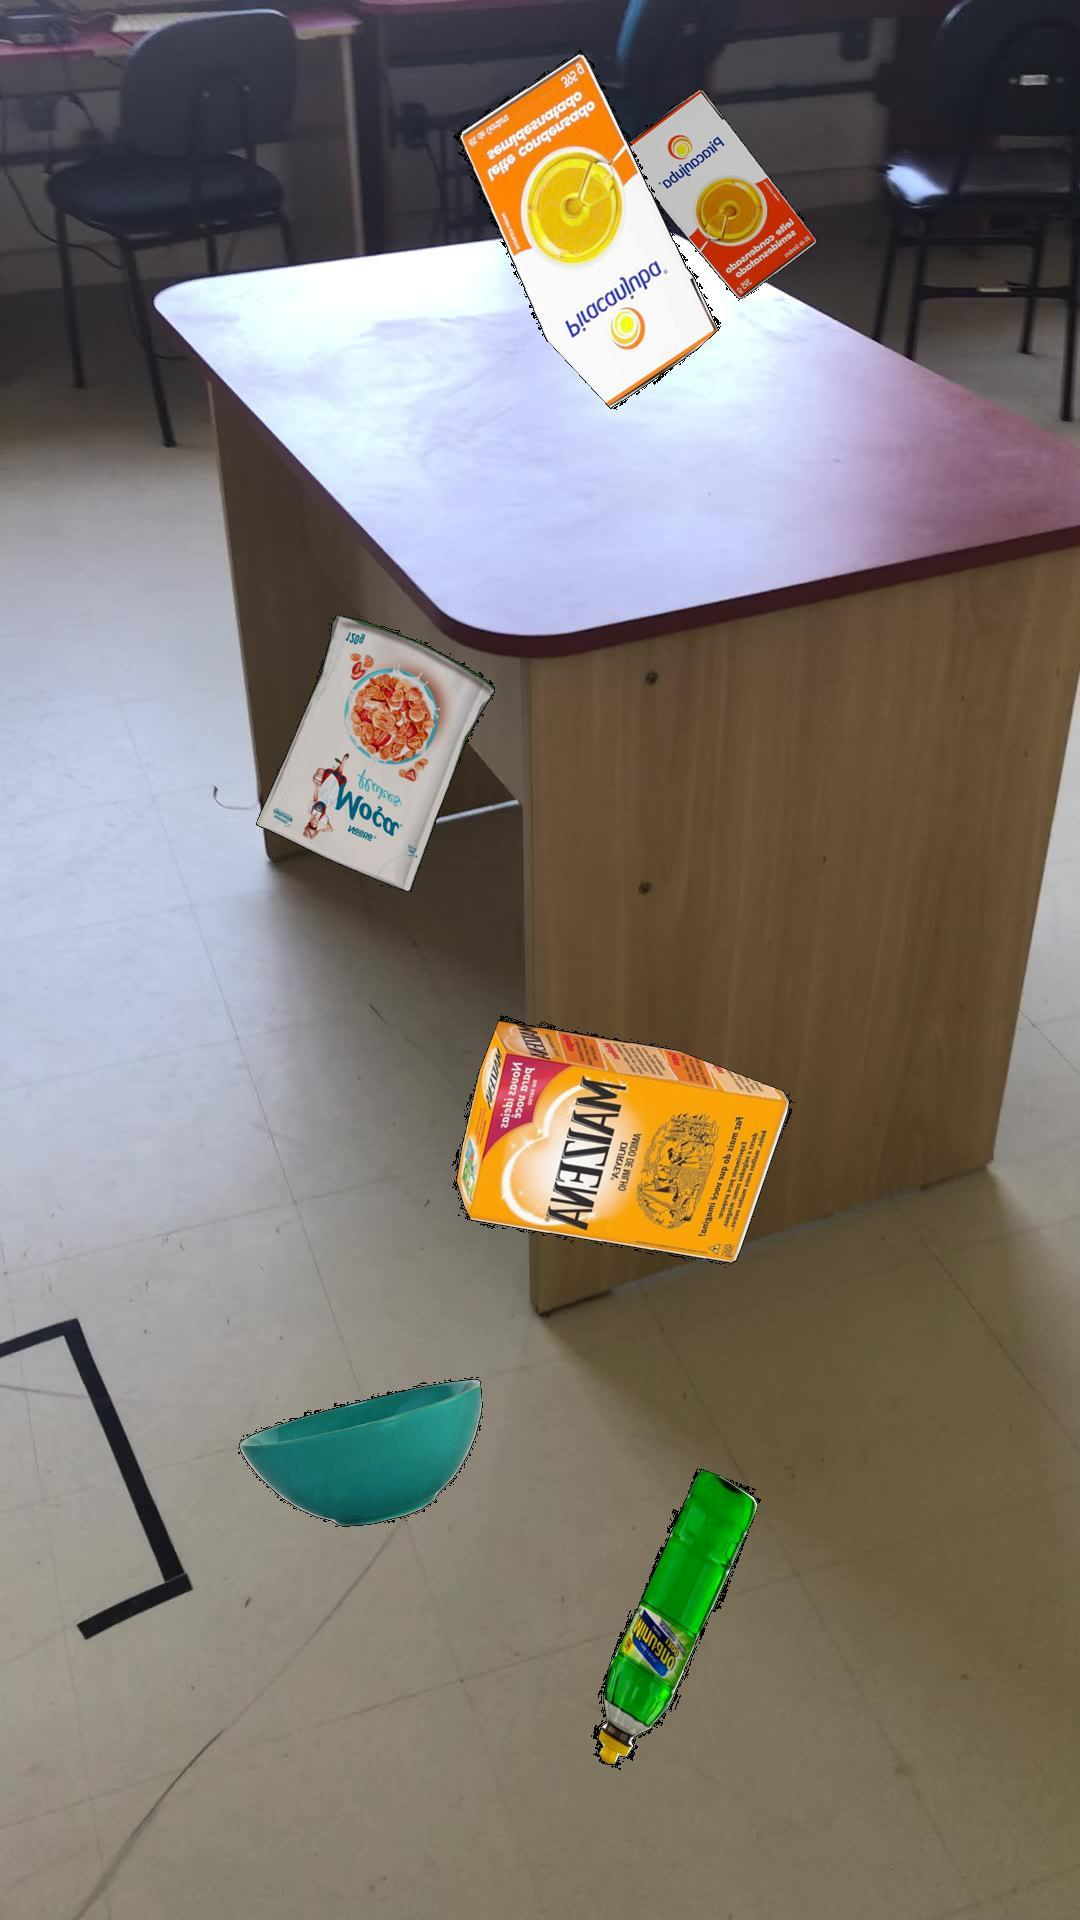bowl: (237, 1377, 481, 1526)
cleaner: (592, 1468, 760, 1767)
corn flakes: (255, 613, 493, 890)
